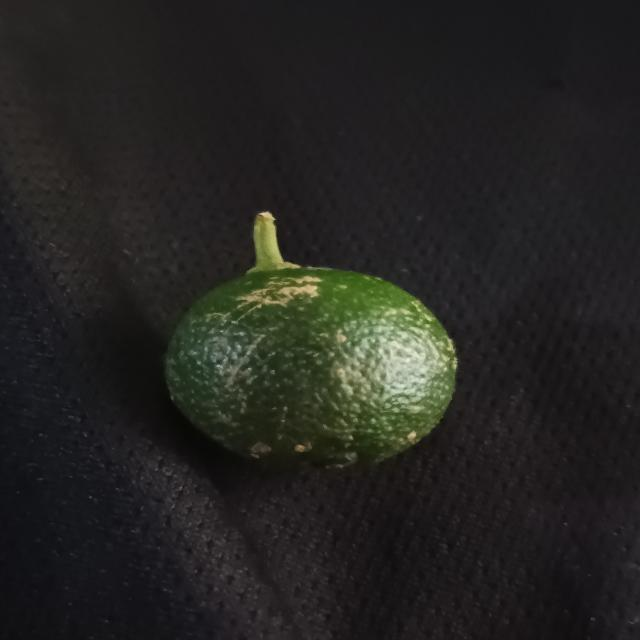scab: (158, 265, 465, 477)
